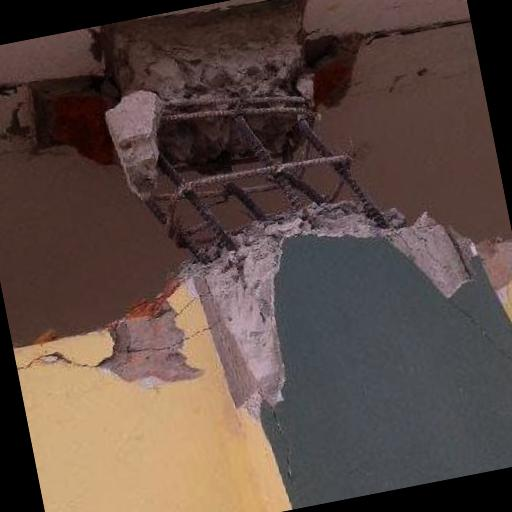spalling: (104, 1, 470, 421), (96, 303, 211, 390)
